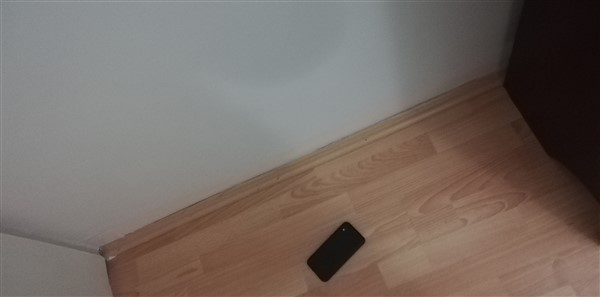telefon: (306, 221, 367, 284)
